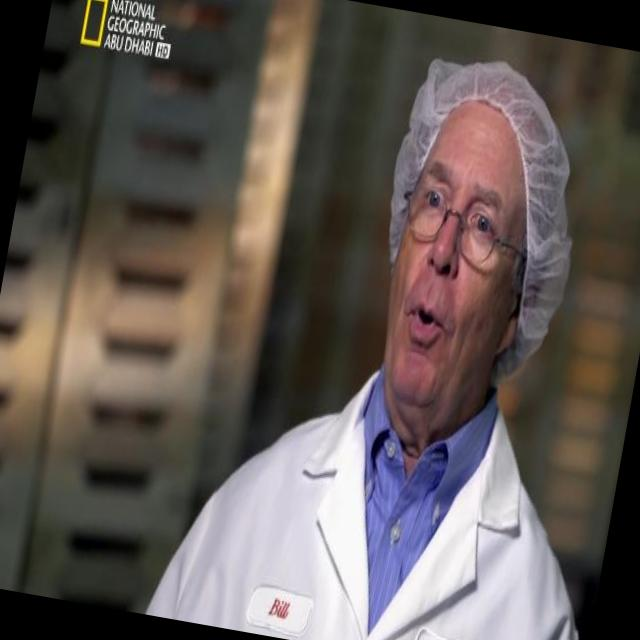hairnet: (392, 56, 591, 237)
